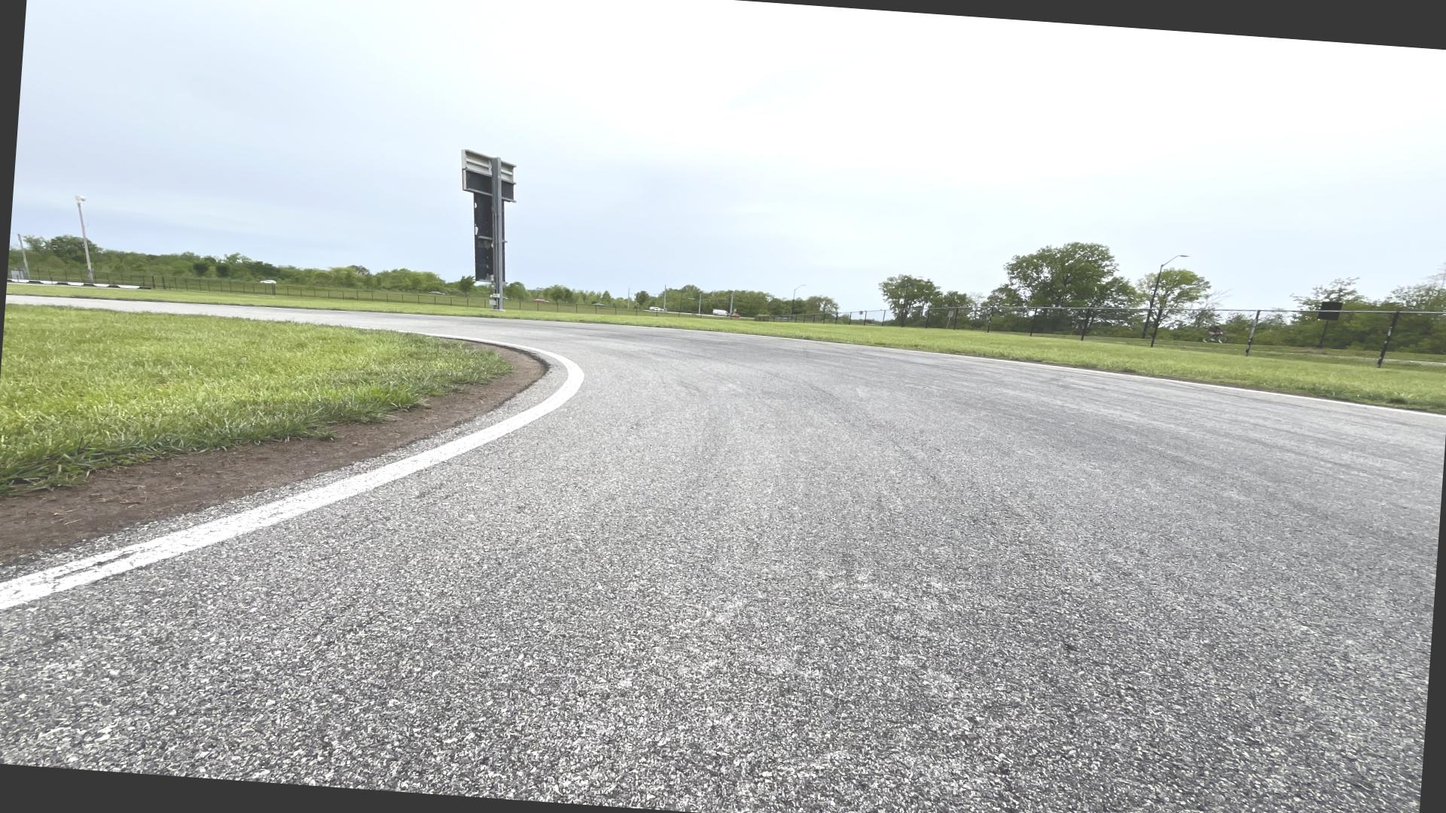white-line: (0, 325, 585, 611), (274, 308, 1445, 417)
